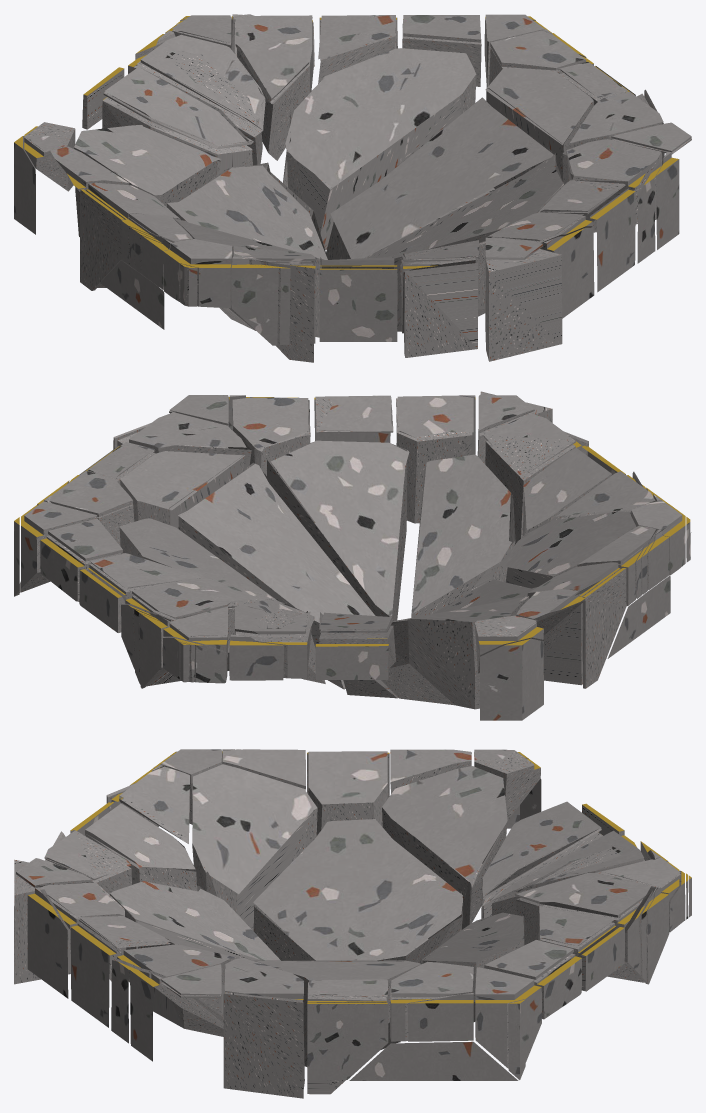
The model's file is terrazzoTile_crack_01.fbx.
3 views of the same model, one above another, from view 1: azimuth 30°, elevation 25°; view 2: azimuth 150°, elevation 25°; view 3: azimuth 270°, elevation 25° (orthographic).
Visible parts, largest first — view 1: terrazzoTile_crack_01; view 2: terrazzoTile_crack_01; view 3: terrazzoTile_crack_01.
Boxes of the visible parts, x1,y1,x2,y2 form: terrazzoTile_crack_01: [14, 14, 691, 362]; terrazzoTile_crack_01: [14, 391, 691, 720]; terrazzoTile_crack_01: [14, 749, 691, 1098].
Size of the model in its own units: 203 by 61.99 by 228.
